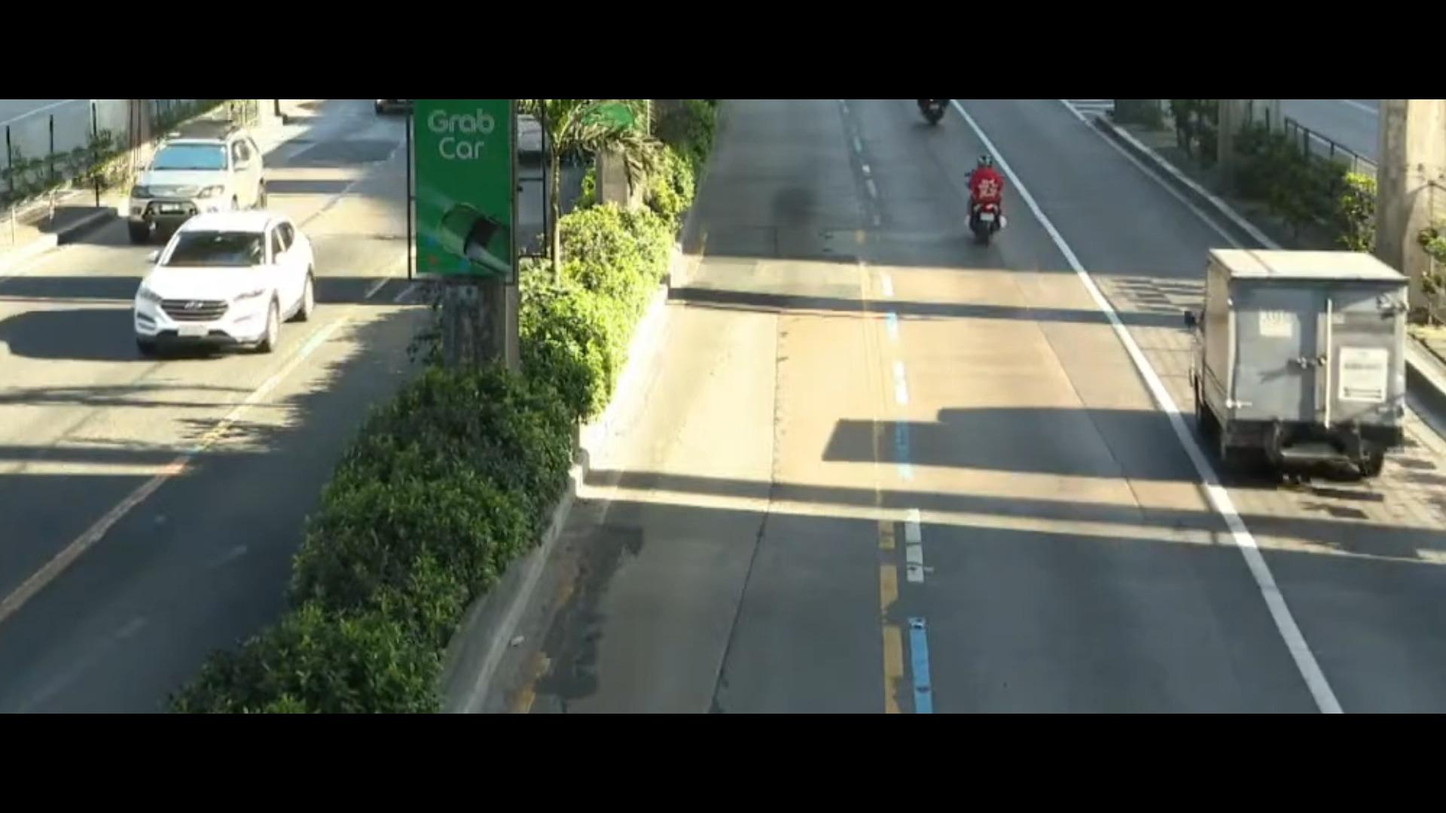Motorcycle: (934, 143, 1049, 265)
SUV: (123, 204, 332, 375), (125, 108, 296, 226)
Truck: (1166, 237, 1438, 502)
